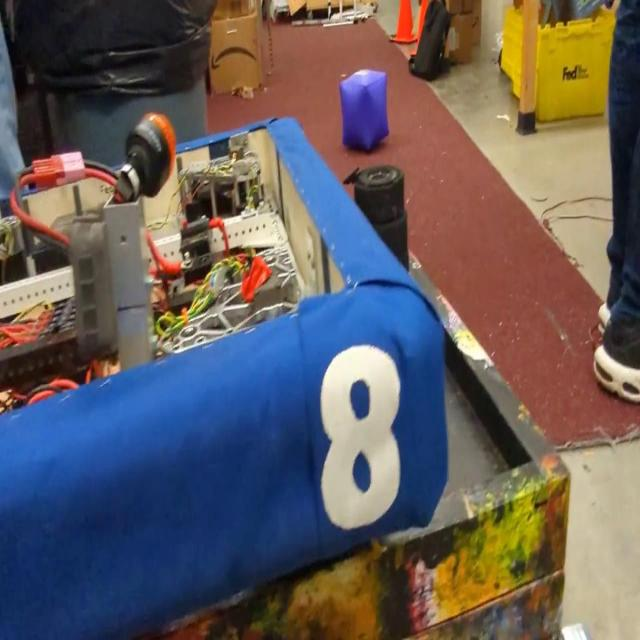frc_cube: (338, 66, 388, 154)
